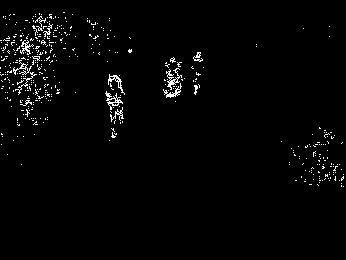person: (105, 73, 126, 144), (192, 48, 205, 97)
